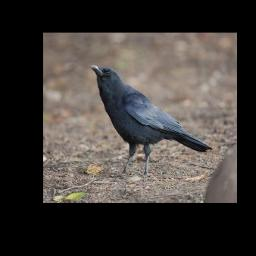Crow: (88, 64, 211, 179)
